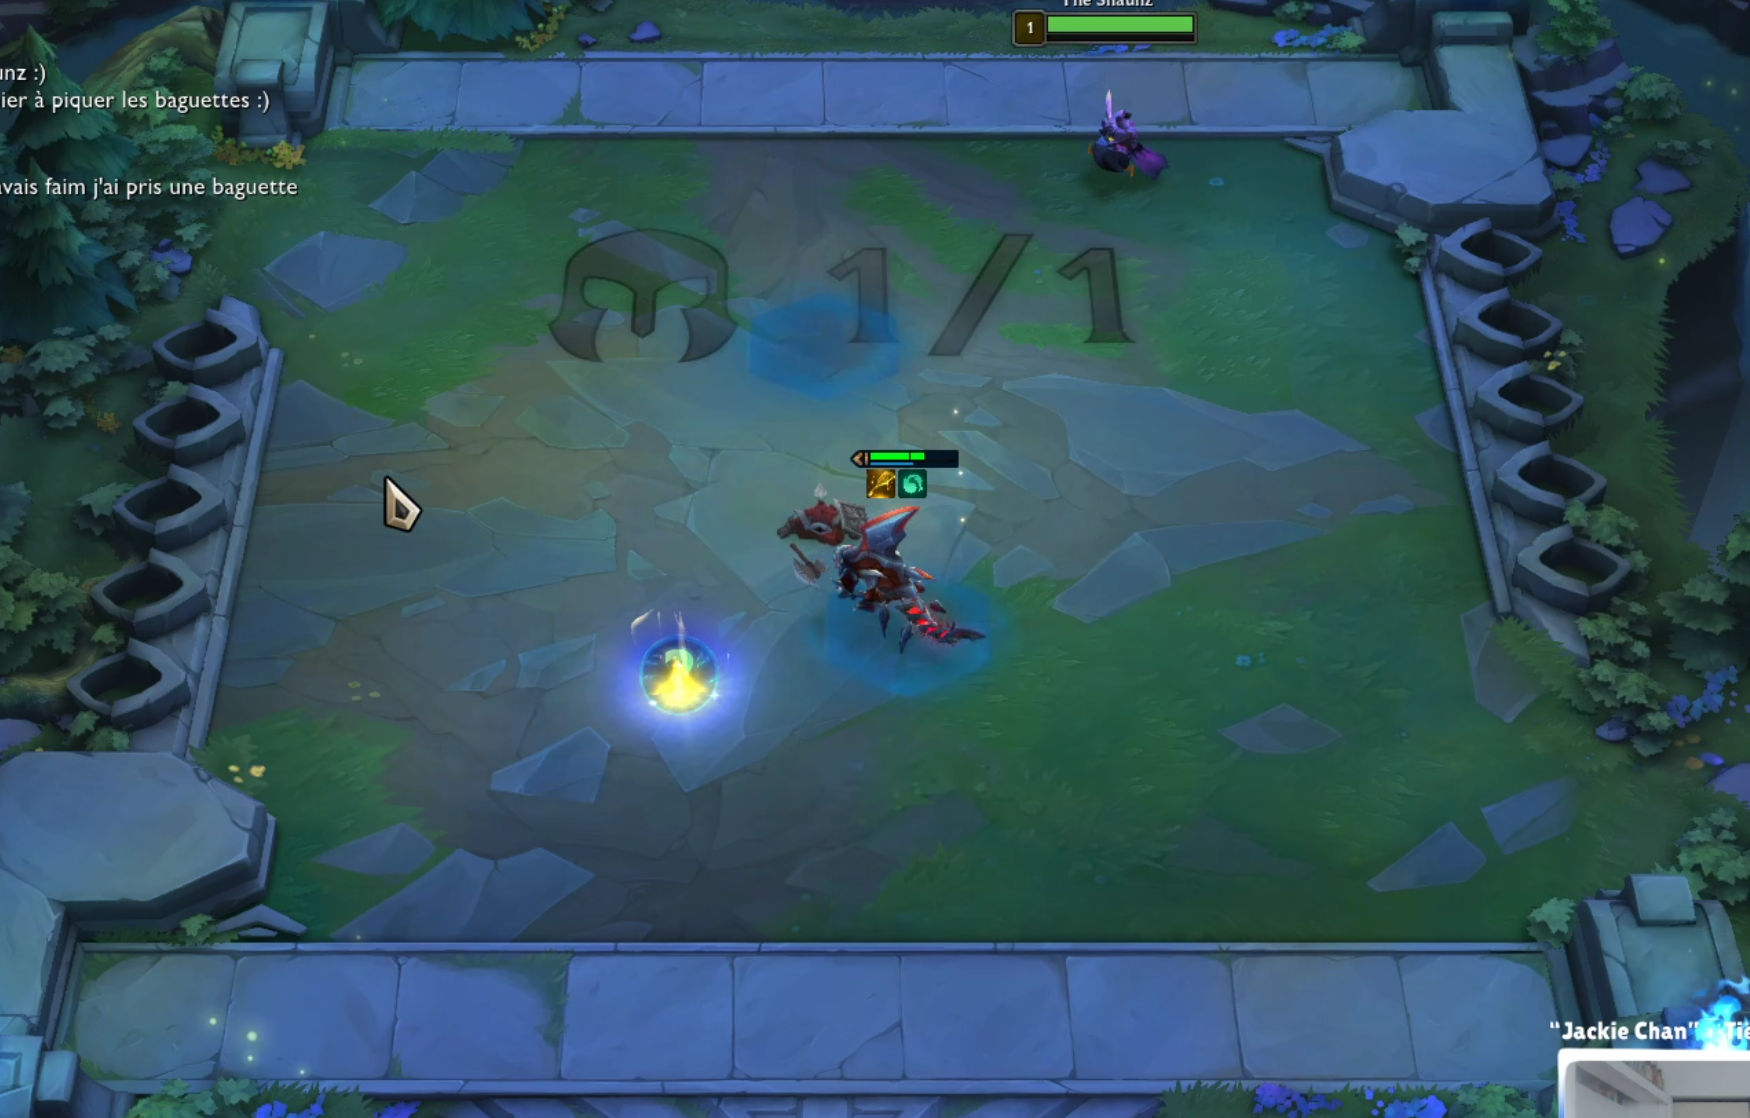blue orb: (635, 634, 723, 720)
reksai 1: (830, 507, 987, 662)
